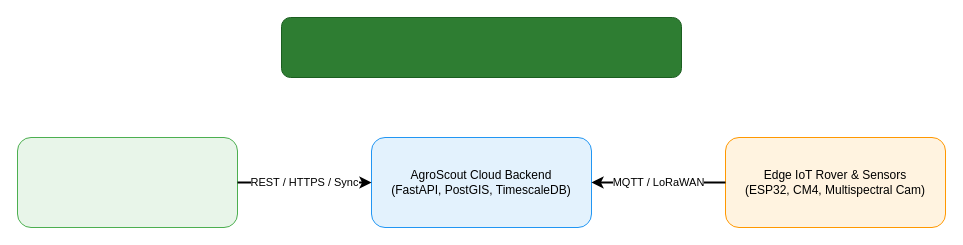
Some shapes in this 963 by 245 pixel diagram are drawn without their labels. Each missing label, with the centre of its shape:
"Flutter Mobile Client (Offline Cache & On-Device TFLite)" belongs at point (127, 182).
"System Component Diagram" belongs at point (481, 47).
